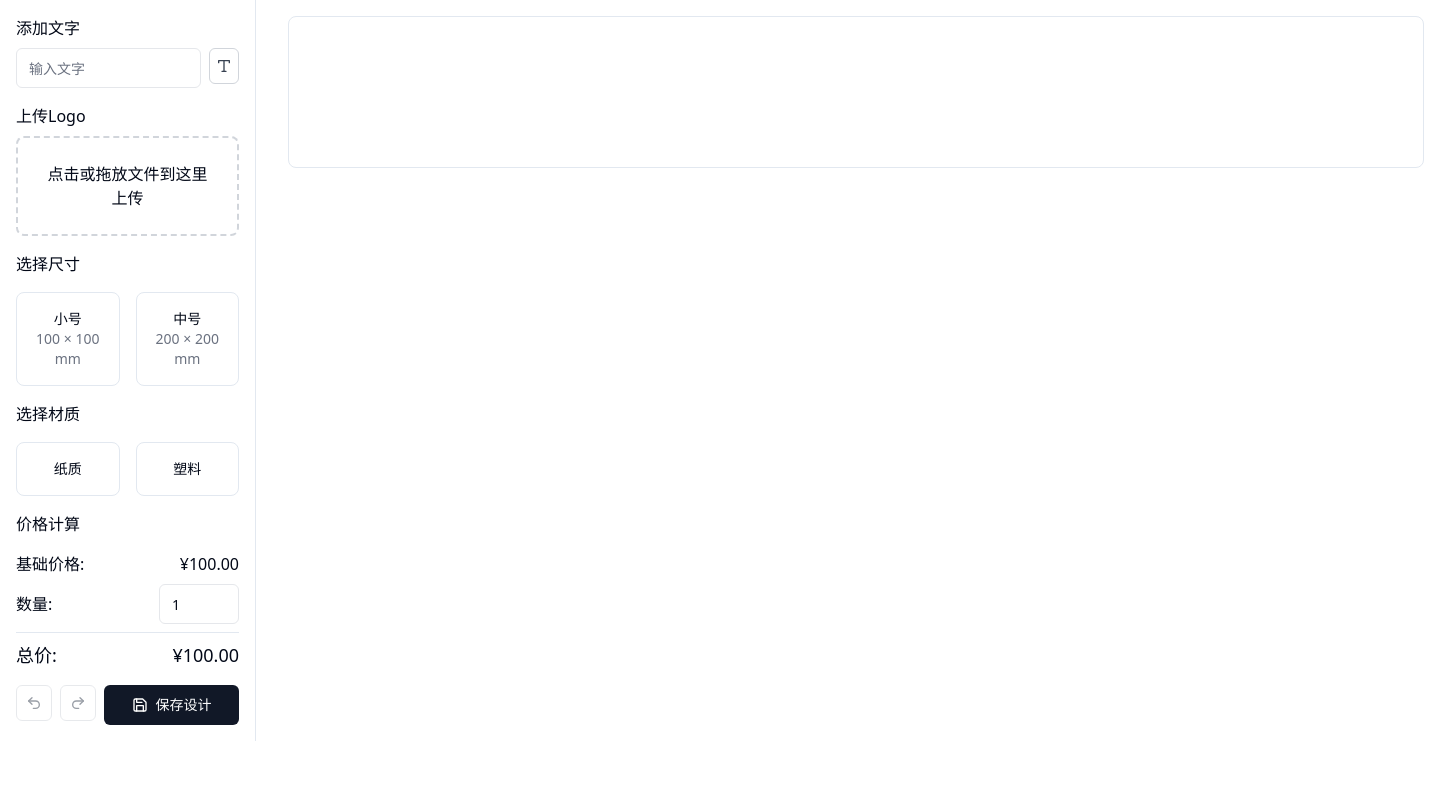
Test: DesignCustomizer 组件 › 没有选择必要选项时不应该保存
Click the button with test id "save-design-button": (172, 705) [104,685,239,725]
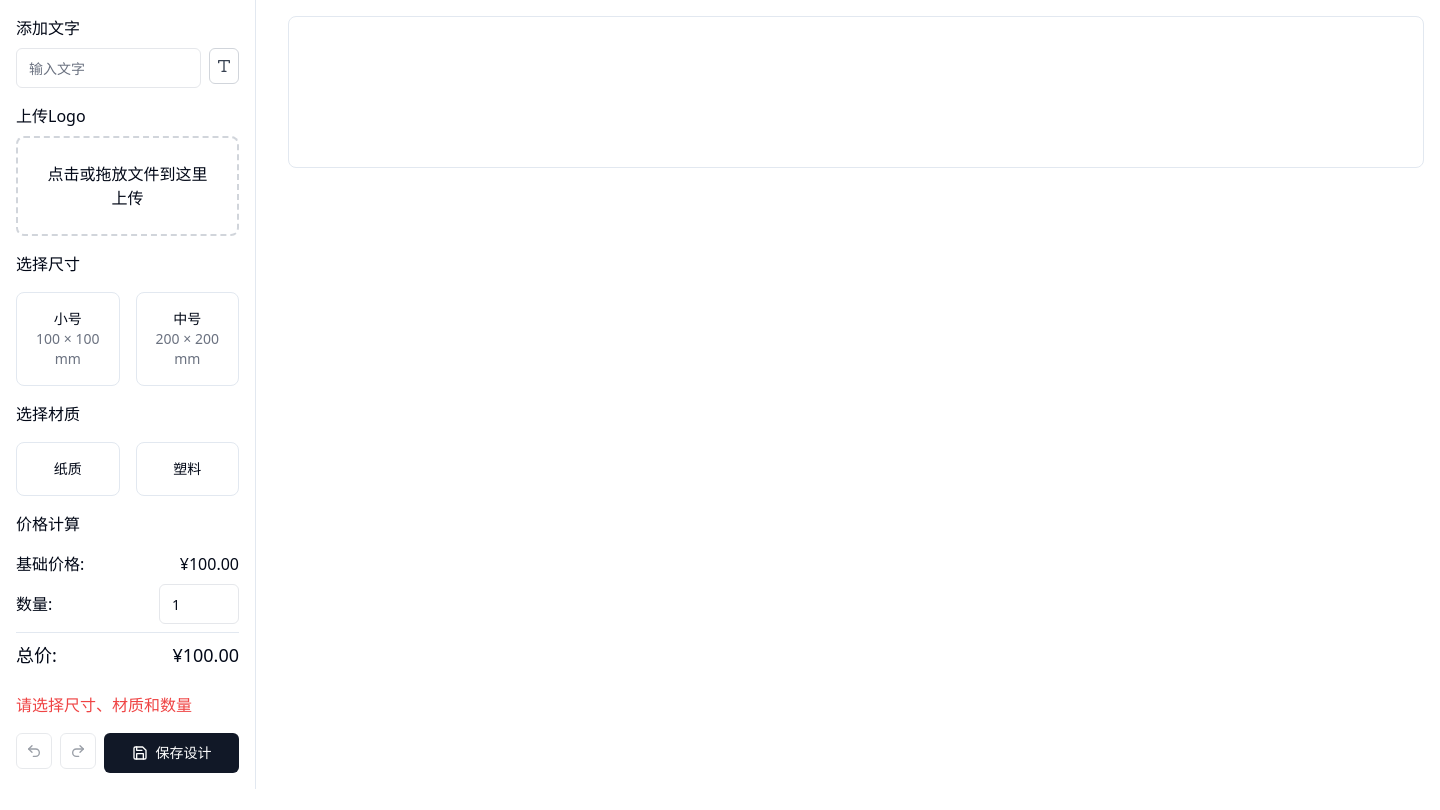
Check: the text "请选择尺寸、材质和数量" is shown, box [16,694,192,716]
